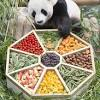panda: (23, 0, 80, 35)
